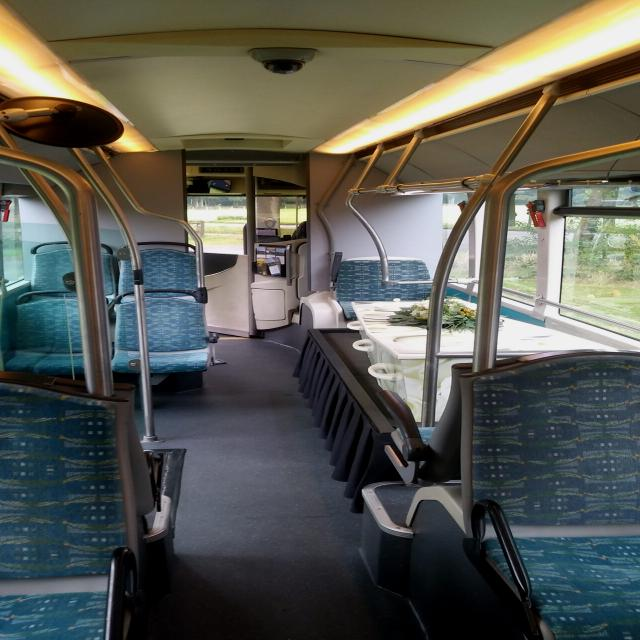asiento-libre: (452, 350, 640, 640), (456, 350, 640, 640), (2, 378, 182, 633), (1, 372, 147, 640), (112, 293, 214, 384), (108, 288, 210, 375), (4, 290, 106, 377), (4, 292, 104, 378), (404, 364, 470, 490), (138, 445, 188, 595), (334, 256, 432, 322), (332, 259, 433, 320), (24, 242, 119, 298), (117, 244, 204, 302), (116, 242, 202, 300), (28, 242, 112, 300)
